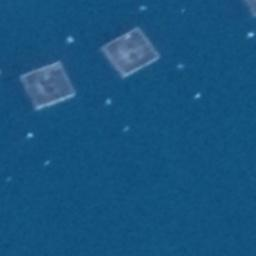square_cover: (95, 23, 166, 82), (14, 58, 83, 114)
